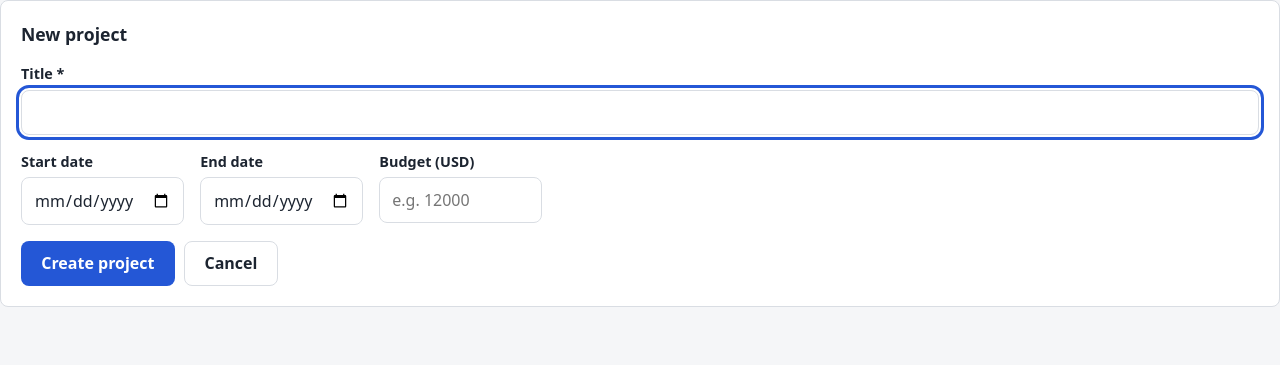
ProjectForm › shows other server errors in a banner
Type "X" into the field labelled "Title *".
click(640, 112); type("X")  # box 21,90 -> 1259,135
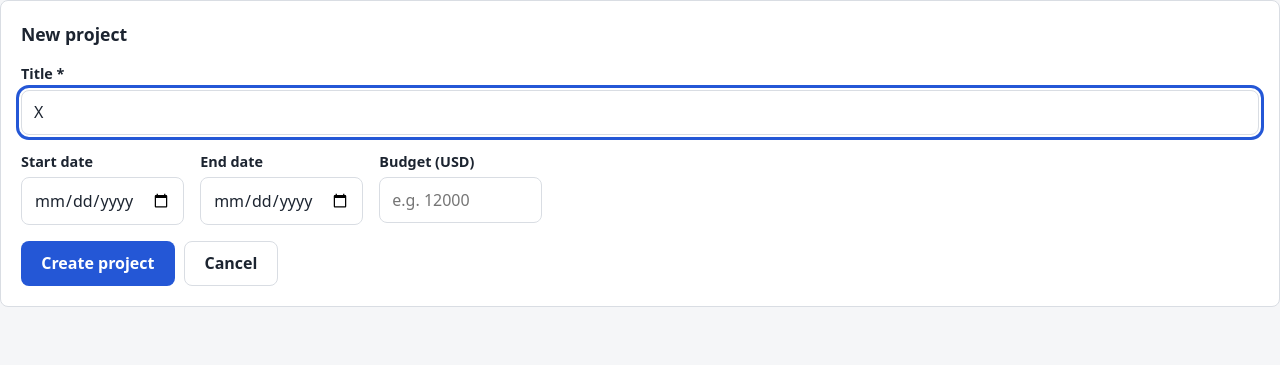
Click the button "Create project".
click(98, 263)  # box 21,241 -> 175,286
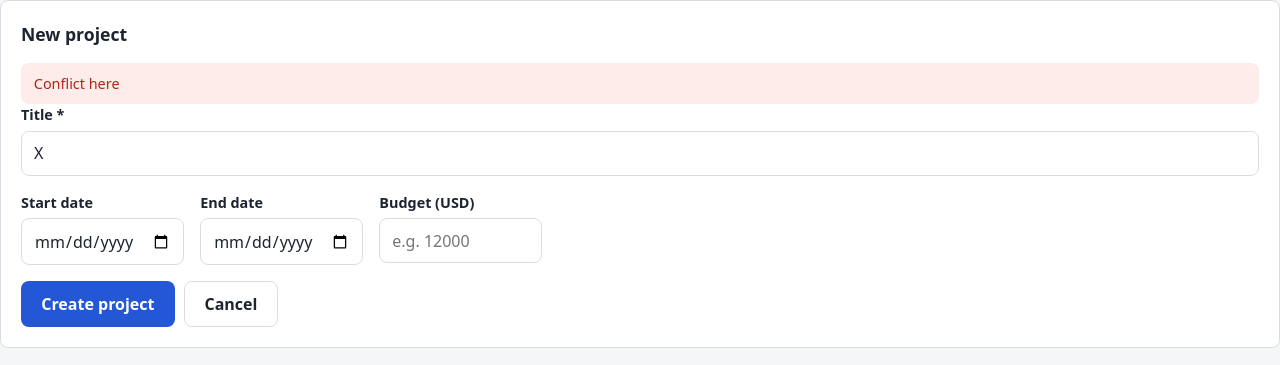
Expected: the message reads "Conflict here", 34,74 -> 120,93
